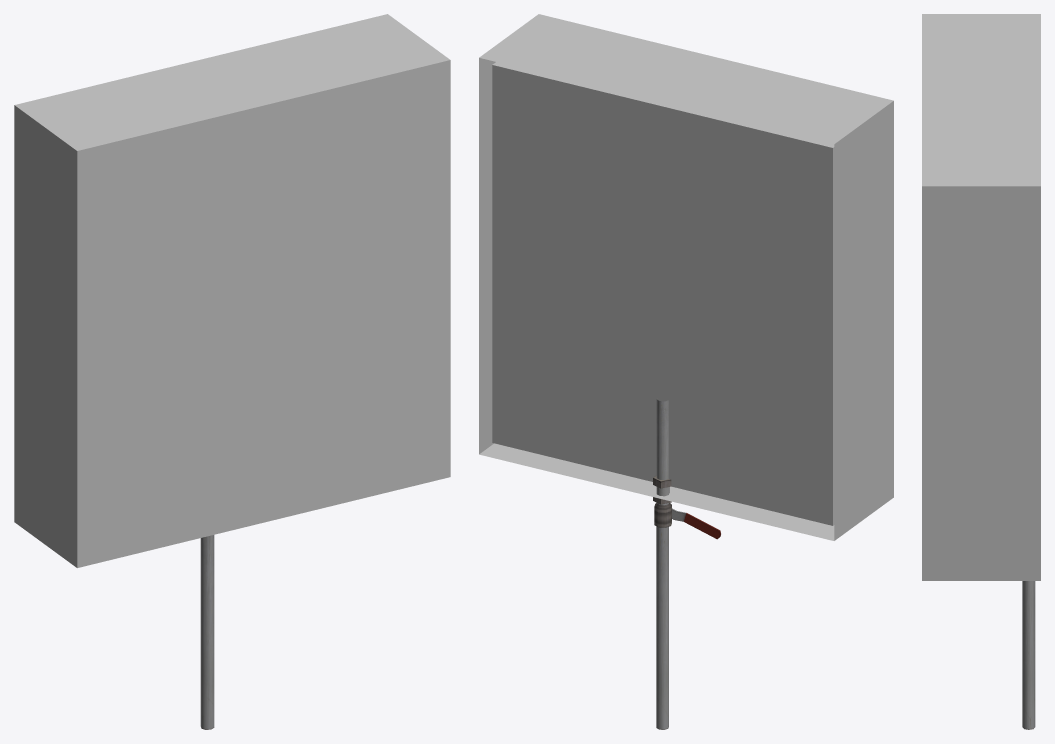
The model's file is ms_fire_hosebox_glass_lod0.fbx.
The picture shows the model from 3 angles, left to right: view 1: azimuth 30°, elevation 25°; view 2: azimuth 150°, elevation 25°; view 3: azimuth 270°, elevation 25°; orthographic projection. The views are drawn at different scales.
Visible parts, largest first — view 1: ms_fire_hosebox_glass_lod0; view 2: ms_fire_hosebox_glass_lod0; view 3: ms_fire_hosebox_glass_lod0.
Boxes of the visible parts, x1,y1,x2,y2 form: ms_fire_hosebox_glass_lod0: [14, 14, 450, 729]; ms_fire_hosebox_glass_lod0: [479, 14, 893, 729]; ms_fire_hosebox_glass_lod0: [922, 14, 1040, 729].
Size of the model in its own units: 73.95 by 125 by 21.55.
